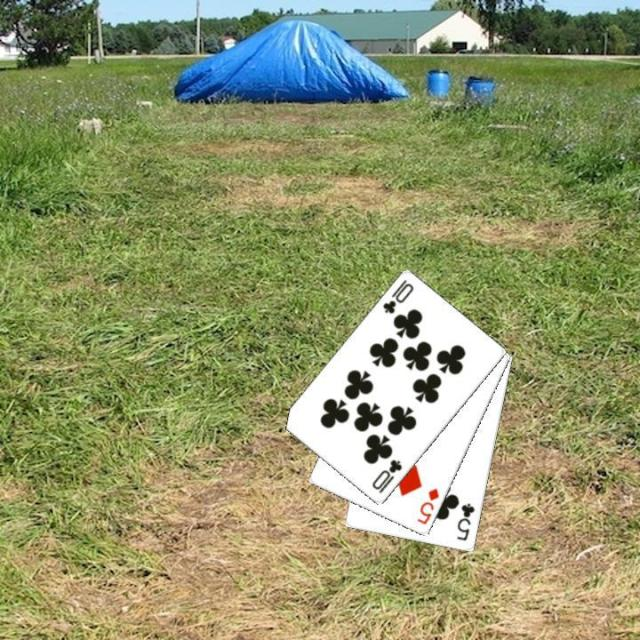10C: (379, 276, 416, 316), (368, 456, 404, 495)
5C: (454, 500, 476, 543)
5D: (413, 485, 441, 527)
